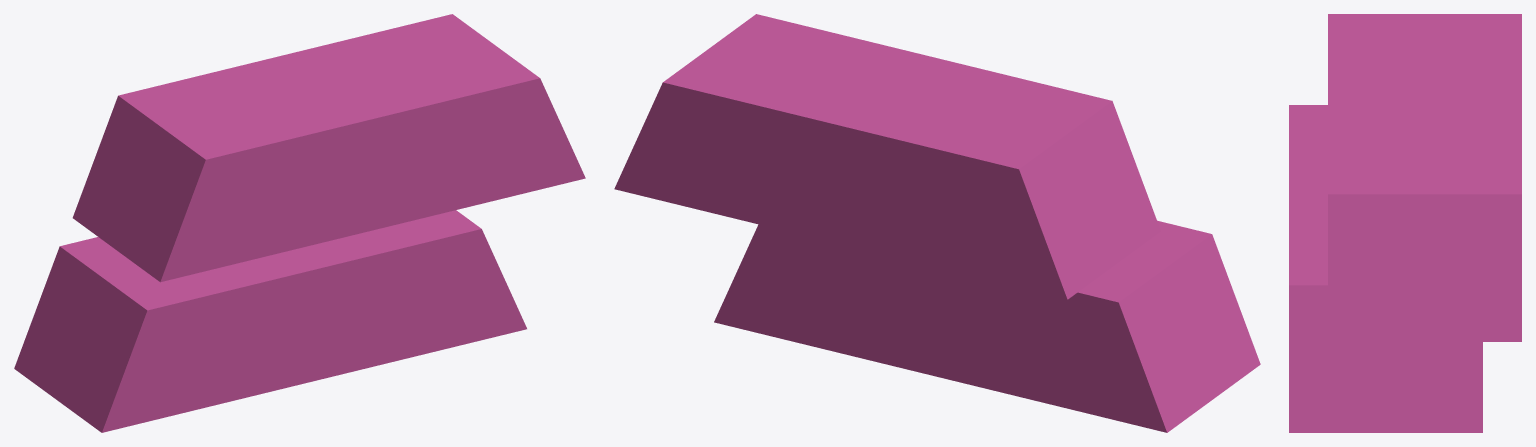
File: orchidite_bar.glb
3 views of the same model, side by side, from view 1: azimuth 30°, elevation 25°; view 2: azimuth 150°, elevation 25°; view 3: azimuth 270°, elevation 25° (orthographic). The views are drawn at different scales.
Parts seen in each view (by area): view 1: orchidite_bar_v0; view 2: orchidite_bar_v0; view 3: orchidite_bar_v0.
Boxes of the visible parts, left/top/right/bottom form: orchidite_bar_v0: left=14, top=14, right=585, bottom=432; orchidite_bar_v0: left=614, top=14, right=1260, bottom=432; orchidite_bar_v0: left=1289, top=14, right=1521, bottom=432.
Size of the model in its own units: 0.33 by 0.145 by 0.12.
